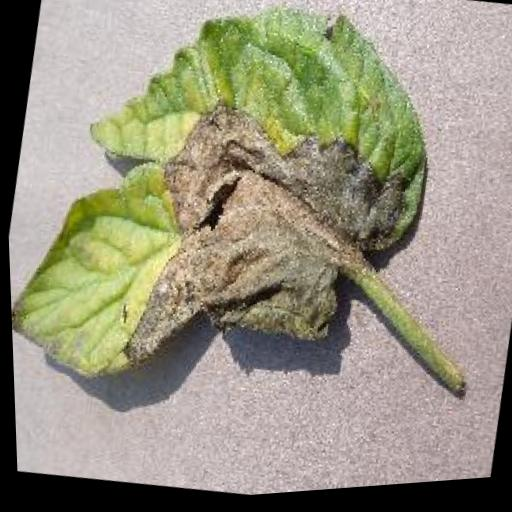Late Blight: (0, 0, 460, 438)
